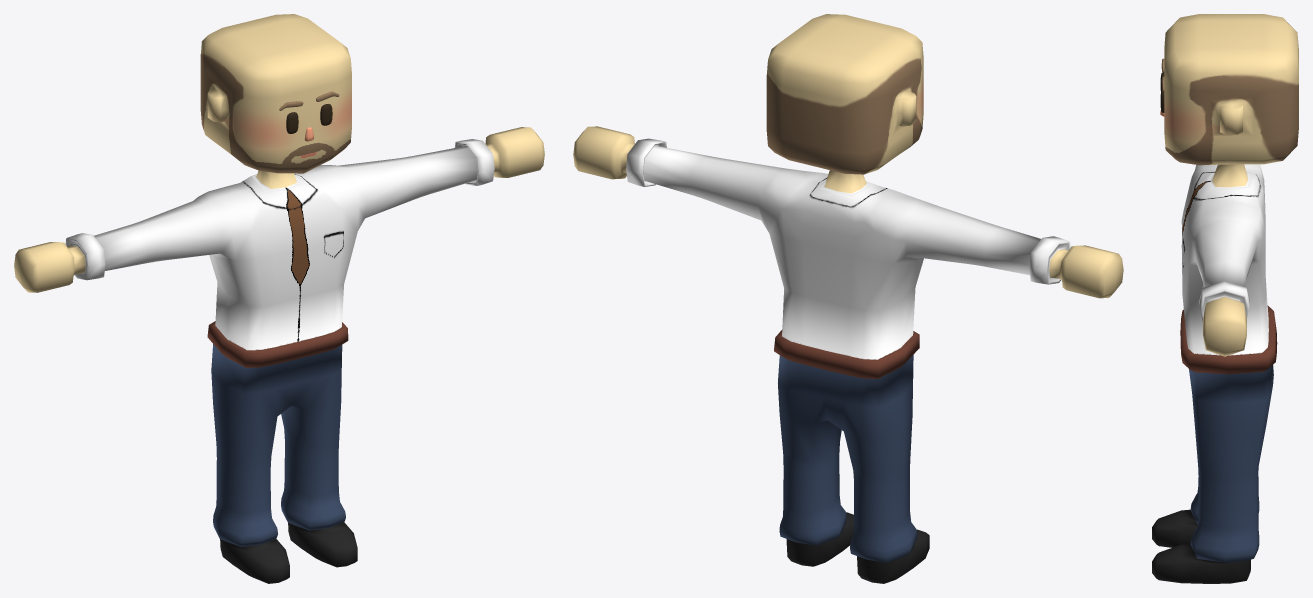
Rendered from ProfReyes_Model.fbx.
3 renders of one model, left to right at view 1: azimuth 30°, elevation 25°; view 2: azimuth 150°, elevation 25°; view 3: azimuth 270°, elevation 25°, orthographic. The views are drawn at different scales.
Visible parts, largest first — view 1: PR_Base.001; view 2: PR_Base.001; view 3: PR_Base.001.
Boxes of the visible parts, <box> form: PR_Base.001: <box>14,14,544,583</box>; PR_Base.001: <box>573,14,1123,583</box>; PR_Base.001: <box>1152,14,1298,583</box>.
Bounding box in the file's own units: 189 × 179 × 45.25.
